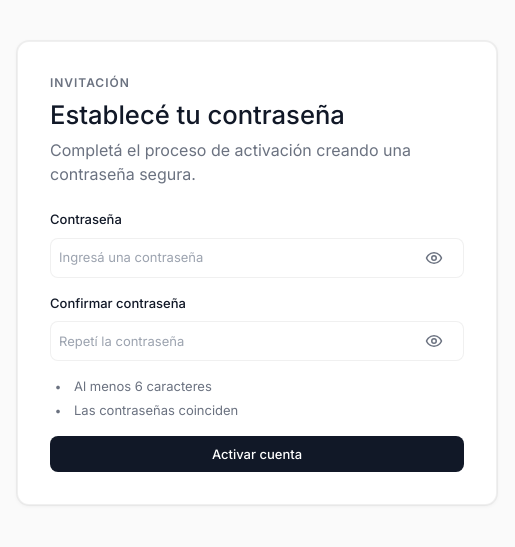
it: InvitePage › shows an error when updateUser fails
The width and height of the screenshot is (515, 547).
Step 1. Type "secret123" into the password field labelled "Contraseña" → (257, 258), box [50,238,464,278]
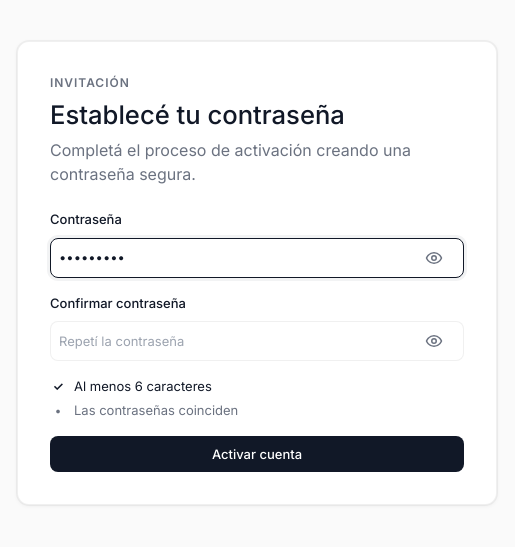
Step 2. Type "secret123" into the password field labelled "Confirmar contraseña" → (257, 341), box [50,321,464,361]
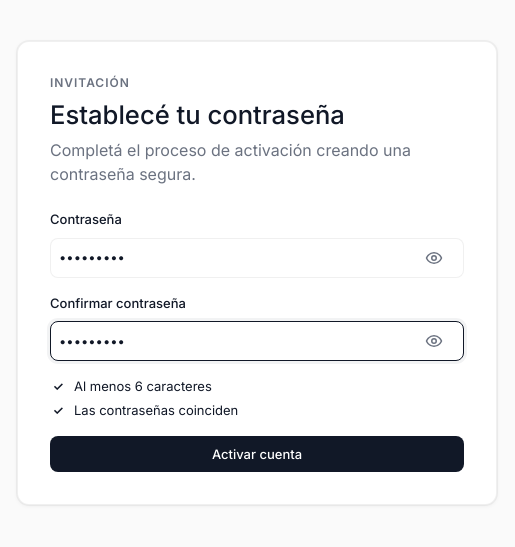
Step 3. Click the button "Activar cuenta" → (257, 454), box [50,436,464,472]
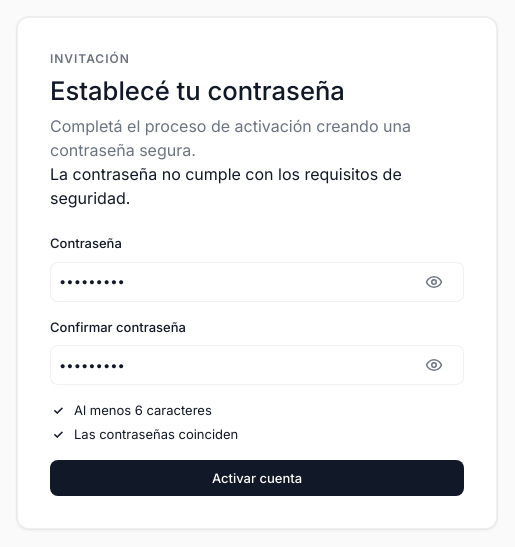
expect the message shows "seguridad": met, box [50,164,402,208]
